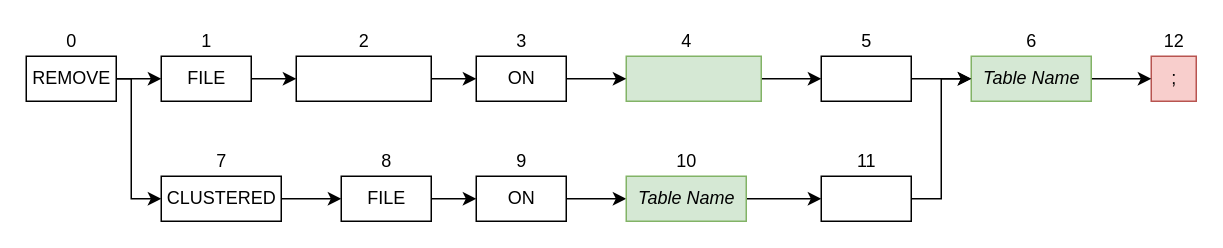
The diagram is 1223 pixels wide and 248 high, and some of its shapes have lost their labels. The shapes that lost their labels are listed below. From the top down, each one's box as (x1, y1, x2, y2) in pixels, then its label:
(295, 55, 431, 101): STRUCTURE
(625, 55, 761, 101): Column Name
(820, 55, 911, 101): IN
(820, 175, 911, 221): AND
